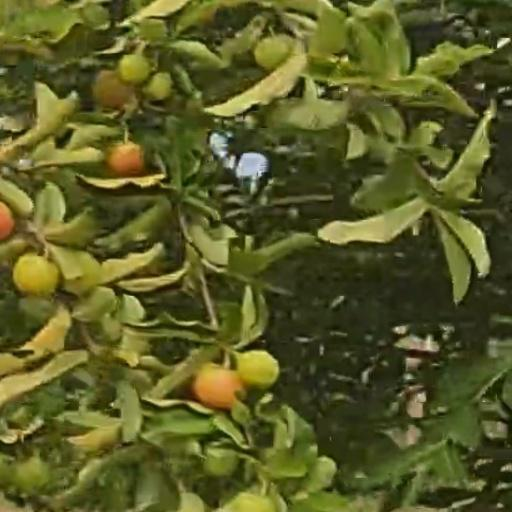acerola: (193, 363, 242, 407), (11, 257, 58, 294), (234, 352, 279, 388), (95, 70, 129, 104), (111, 141, 143, 173)
